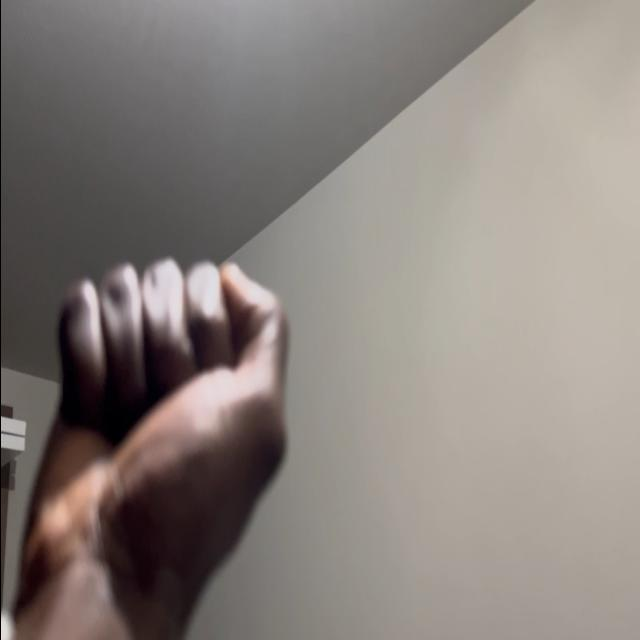Rock: (16, 256, 292, 624)
